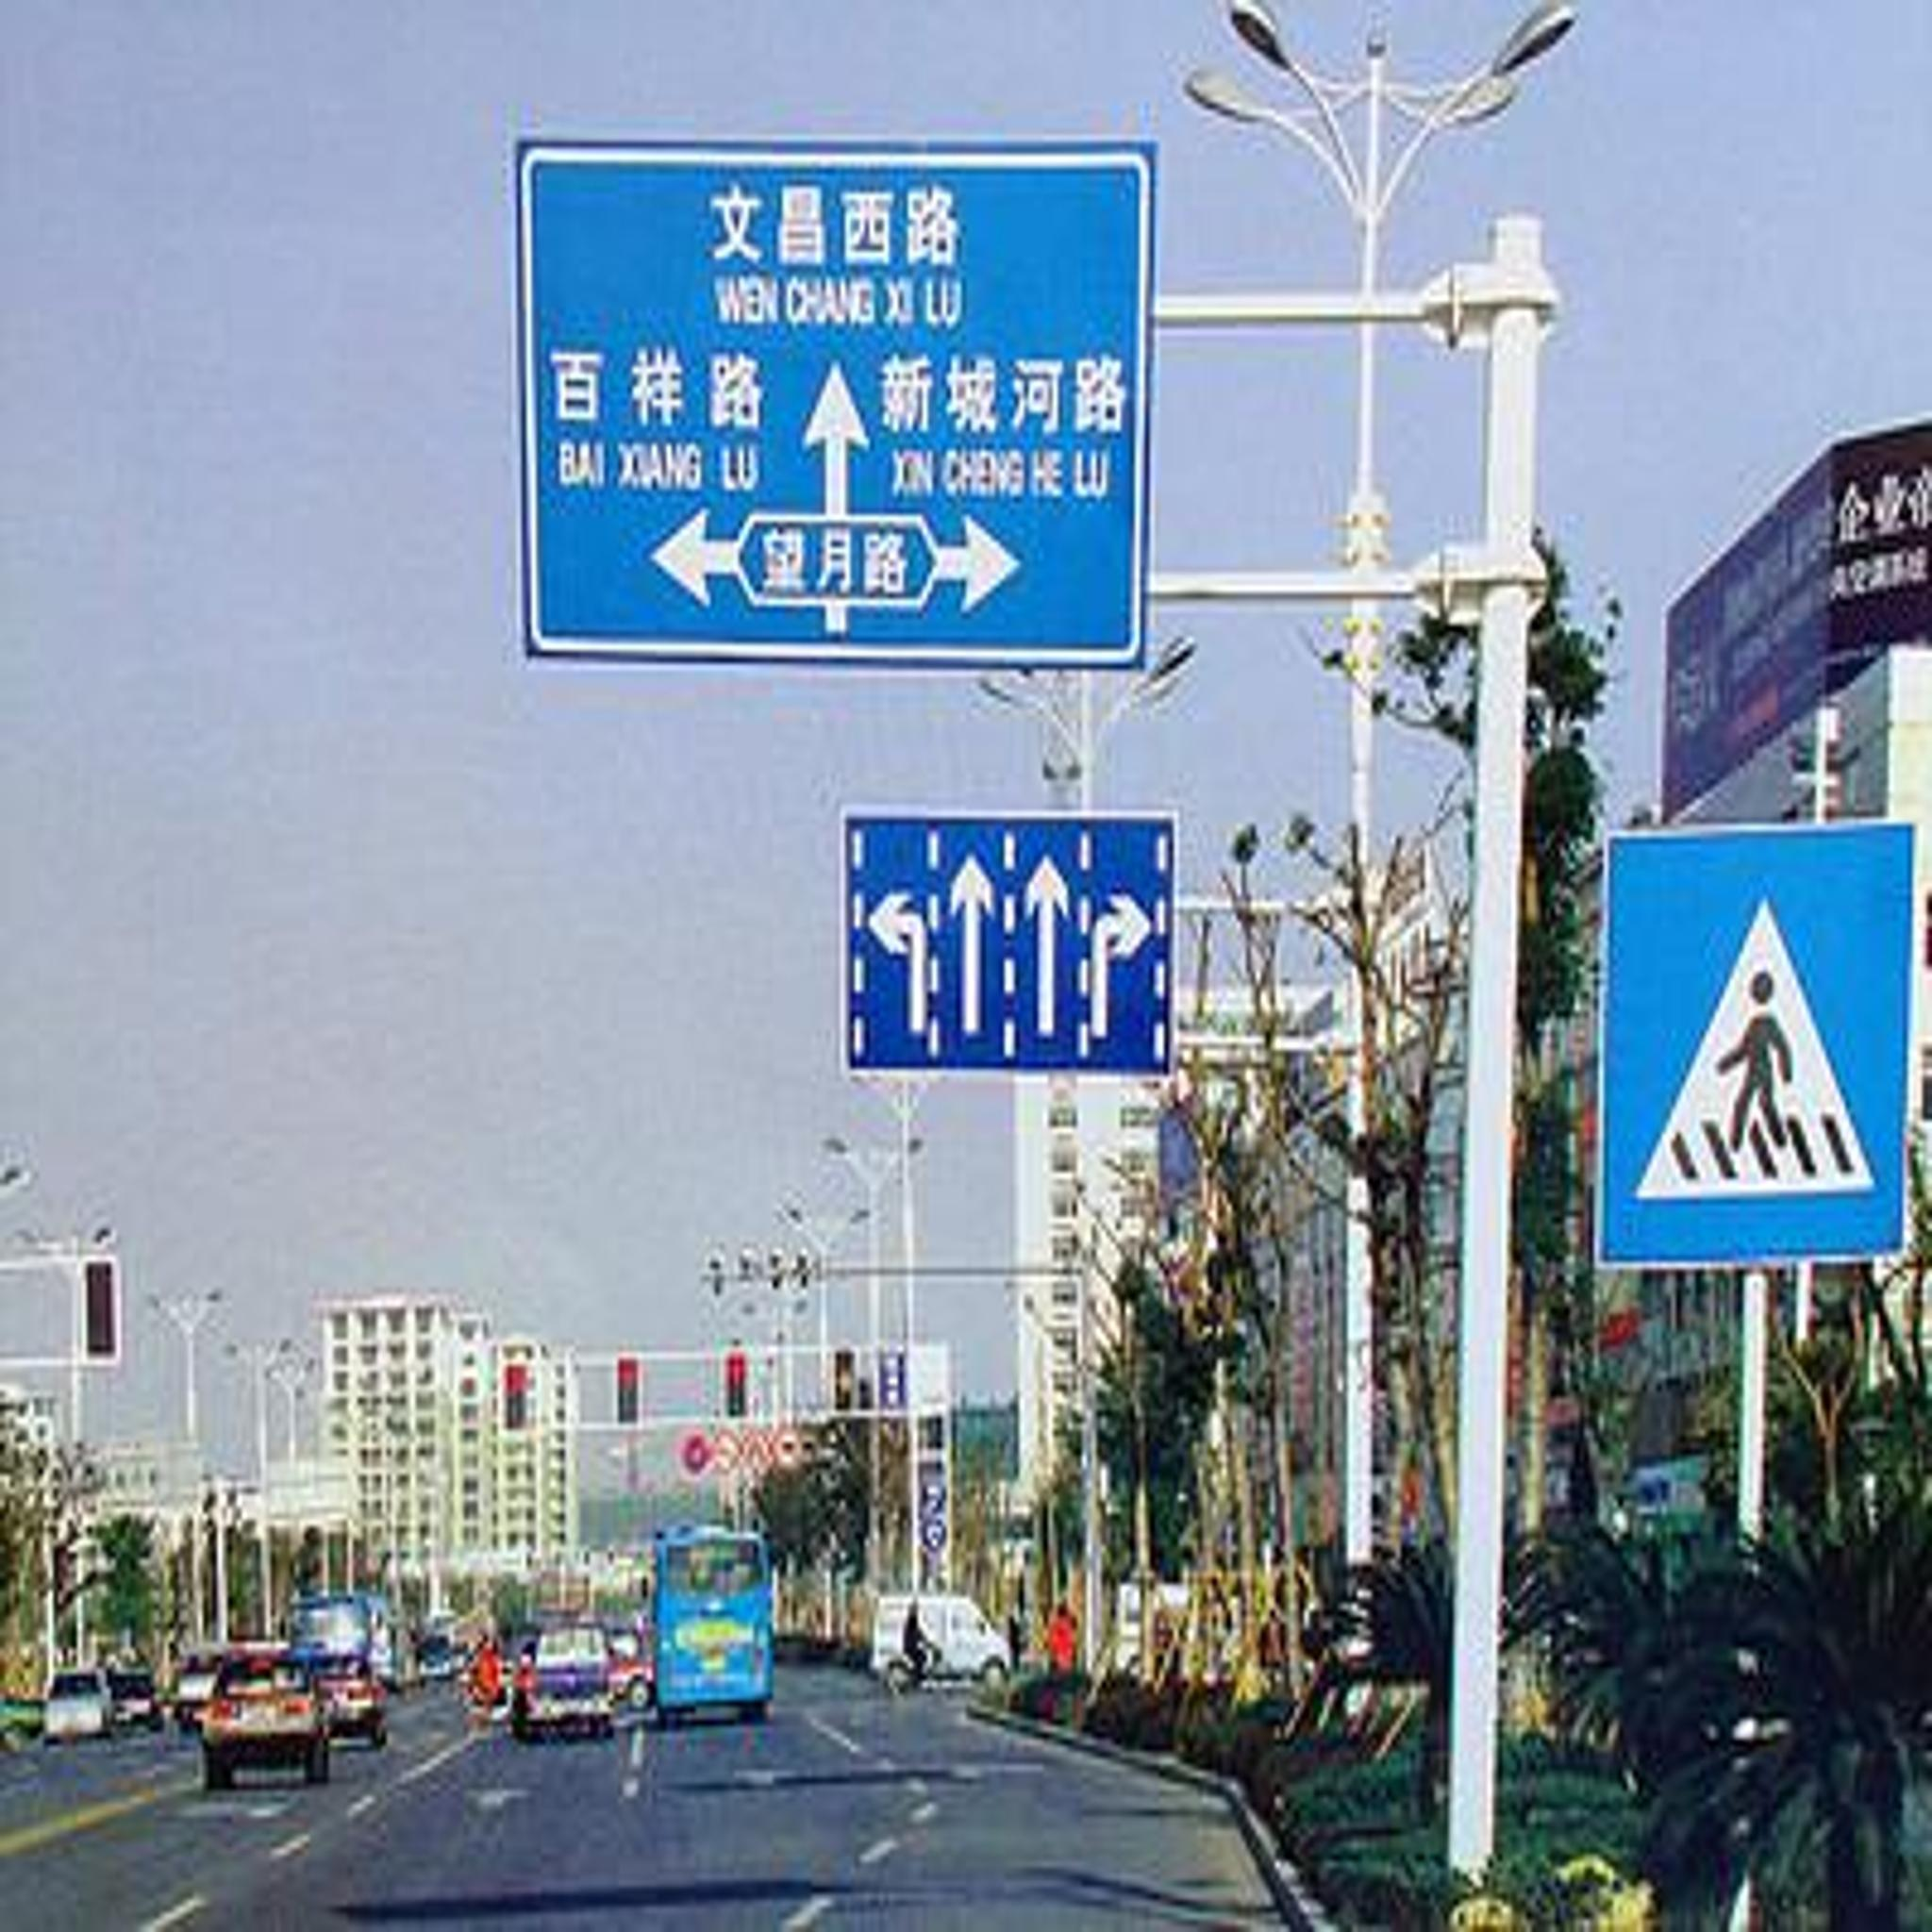ip: (1601, 844, 1916, 1242)
